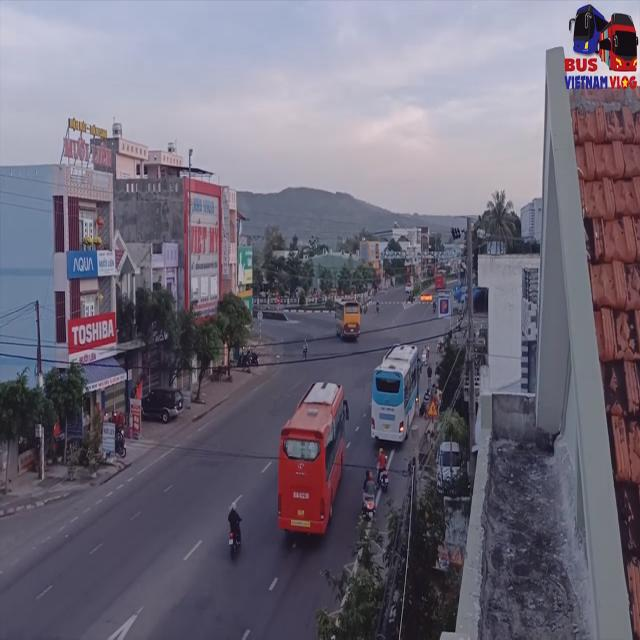bus: (276, 382, 352, 541), (367, 345, 418, 449), (334, 297, 360, 343)
motorbike: (222, 498, 245, 564), (362, 467, 376, 526), (376, 441, 390, 492)
